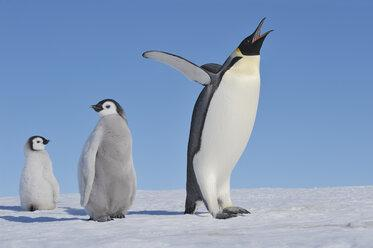emporer: (150, 22, 282, 223)
